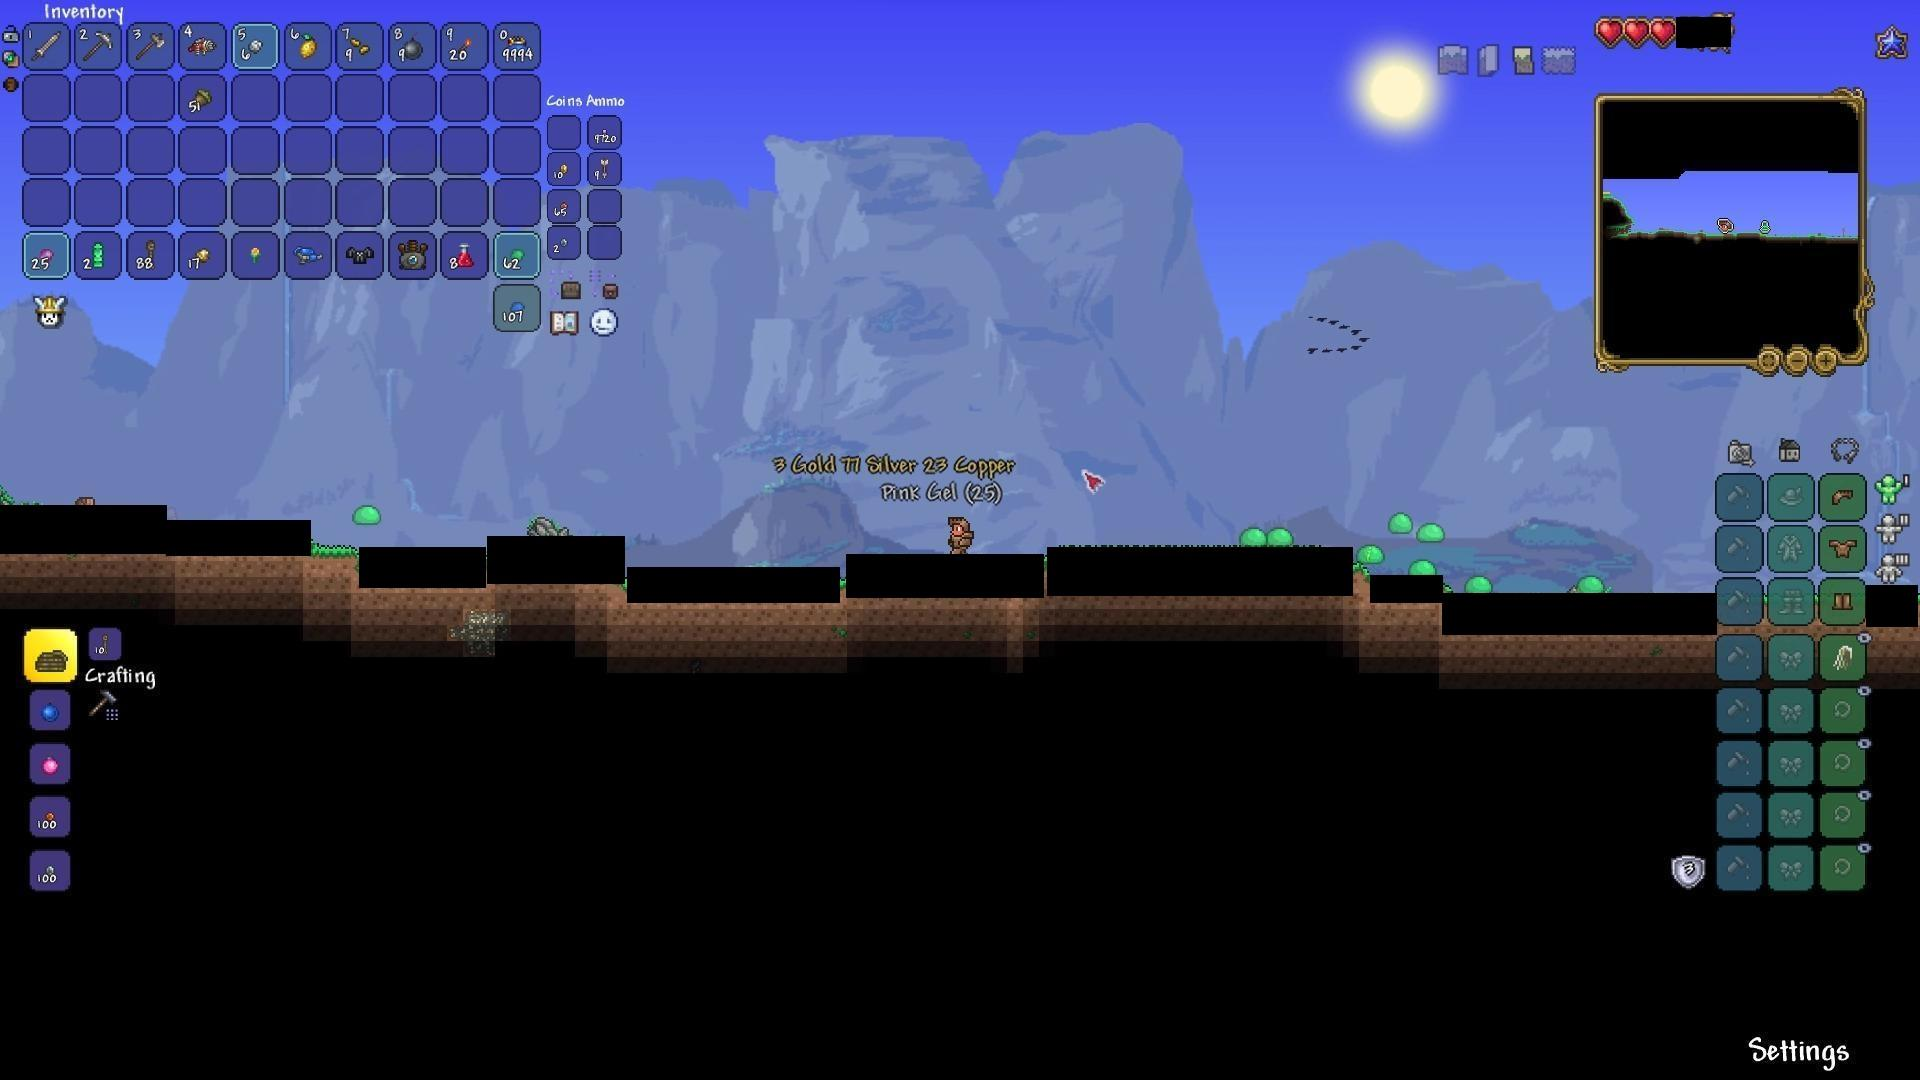breastplate: (1830, 537, 1859, 558)
dirt: (311, 541, 357, 571)
heart: (1596, 16, 1626, 44), (1648, 17, 1676, 47), (1625, 17, 1651, 46)
helmet: (1828, 483, 1858, 510)
legs: (1832, 587, 1857, 616)
slime: (1233, 524, 1270, 550), (1462, 572, 1495, 597), (1270, 524, 1298, 551), (352, 502, 382, 527), (1389, 513, 1422, 535), (1356, 545, 1389, 567), (1576, 574, 1606, 597), (1404, 560, 1443, 579), (1418, 520, 1448, 541)
